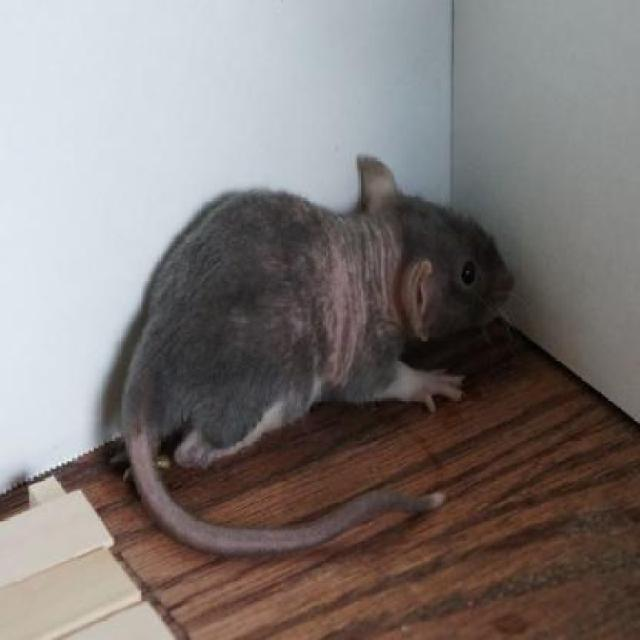Mouse: (99, 147, 528, 571)
